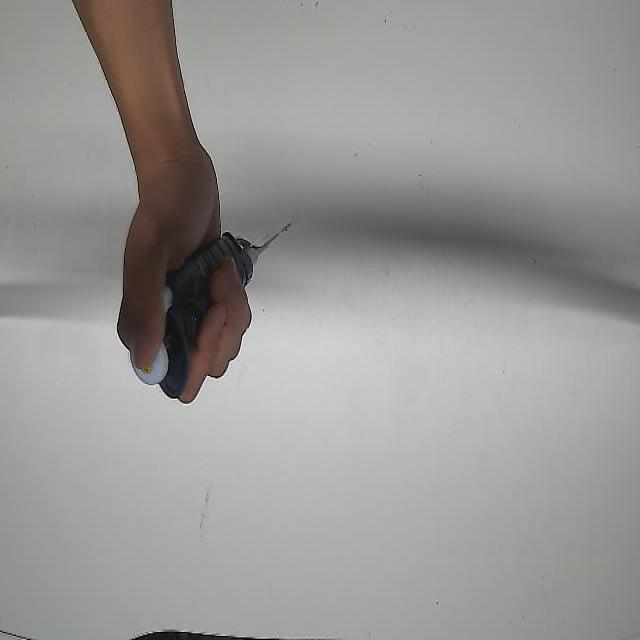Single Channel Pipettor: (127, 215, 300, 405)
